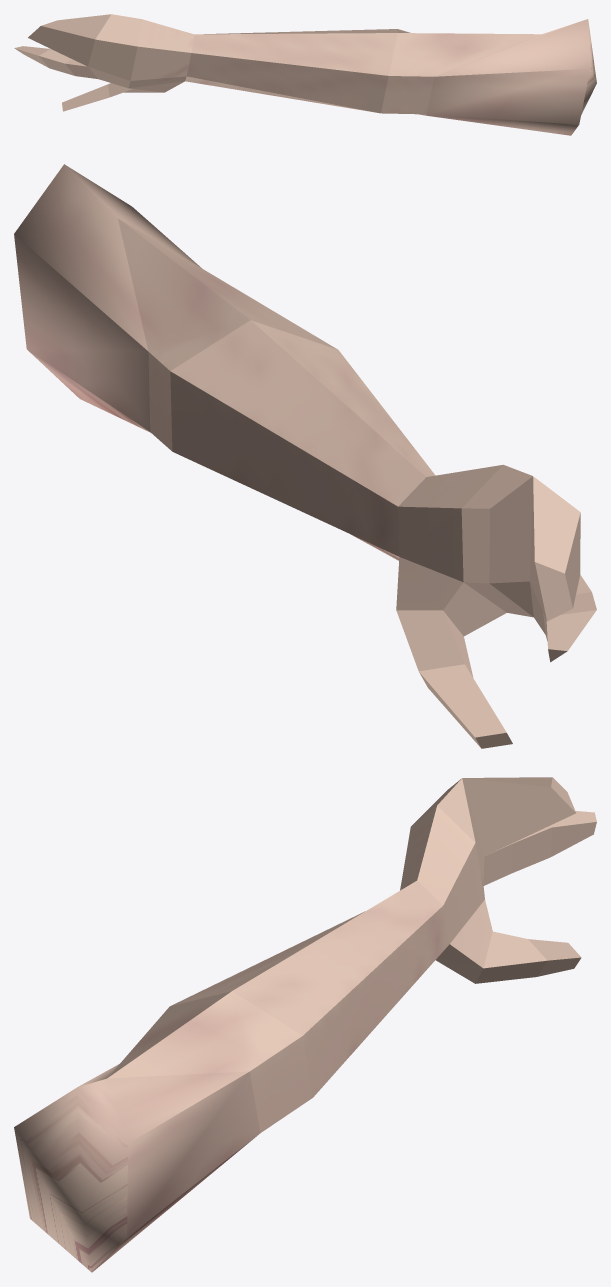
The model's file is arm.fbx.
The picture shows the model from 3 angles, top to bottom: view 1: azimuth 30°, elevation 25°; view 2: azimuth 150°, elevation 25°; view 3: azimuth 270°, elevation 25°; orthographic projection. The views are drawn at different scales.
Visible parts, largest first — view 1: Plane.001; view 2: Plane.001; view 3: Plane.001.
Part boxes in pixels (bbox=[...]): Plane.001: bbox=[14, 14, 596, 135]; Plane.001: bbox=[14, 164, 596, 748]; Plane.001: bbox=[14, 777, 596, 1272].
Size of the model in its own units: 61.49 by 17.15 by 43.14.
